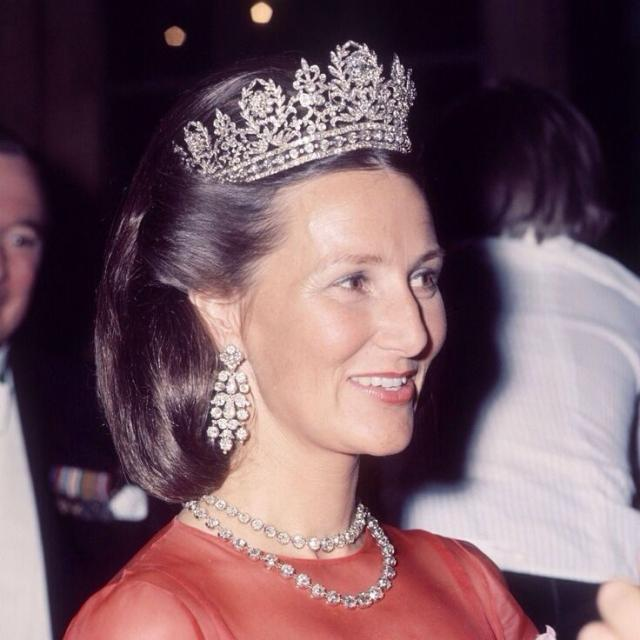Earring: (202, 347, 264, 478)
